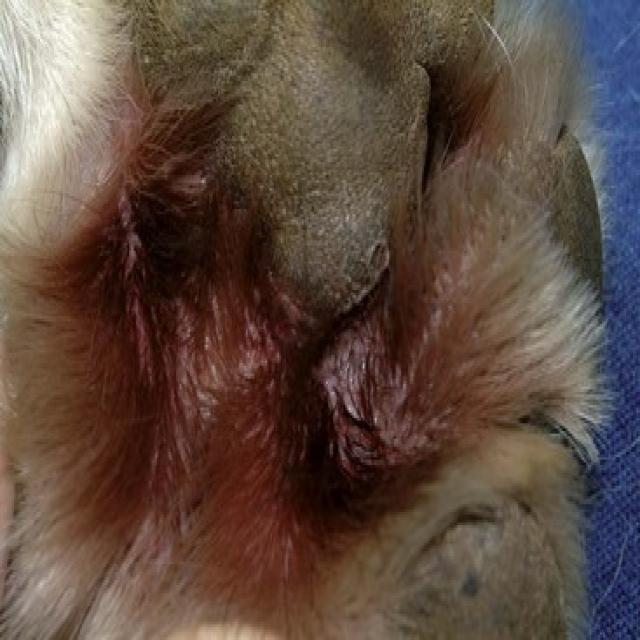allergic dermatitis: (316, 330, 424, 484), (170, 294, 274, 416), (109, 192, 160, 398)
